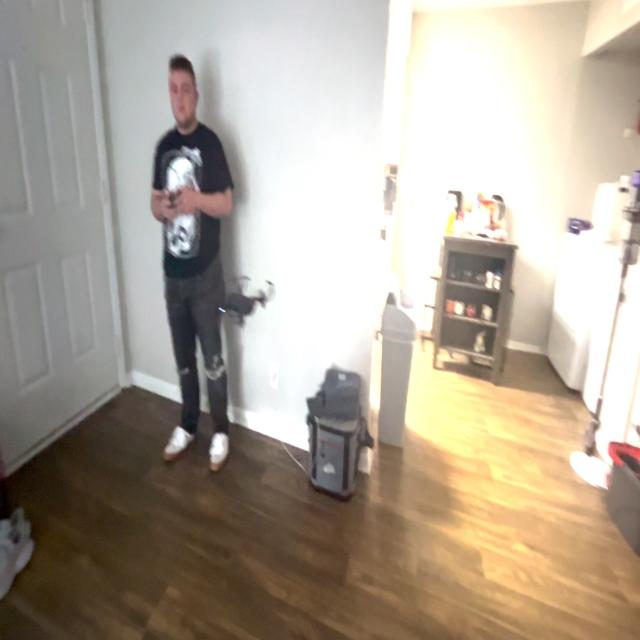drone: (214, 256, 280, 344)
